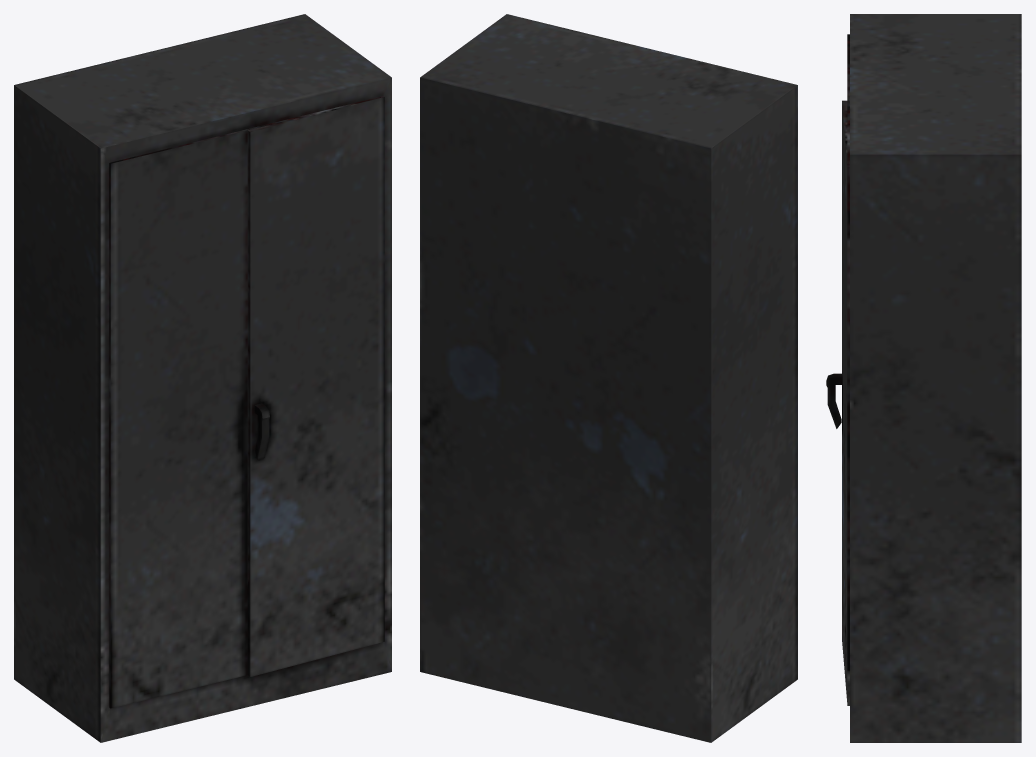
The model's file is Morgue_Medical_Cabinet_01_EmbeddedMedia.fbx.
3 renders of one model, left to right at view 1: azimuth 30°, elevation 25°; view 2: azimuth 150°, elevation 25°; view 3: azimuth 270°, elevation 25°, orthographic.
Parts seen in each view (by area): view 1: Medical Cabinet_01, Handle; view 2: Medical Cabinet_01; view 3: Medical Cabinet_01, Handle.
Boxes of the visible parts, x1=… form: Medical Cabinet_01: x1=14, y1=14, x2=391, y2=742; Handle: x1=254, y1=403, x2=269, y2=459; Medical Cabinet_01: x1=420, y1=14, x2=797, y2=742; Medical Cabinet_01: x1=842, y1=14, x2=1021, y2=742; Handle: x1=826, y1=373, x2=842, y2=428.
Size of the model in its own units: 38.64 by 75.39 by 22.72.
1 material, 1 textured.
